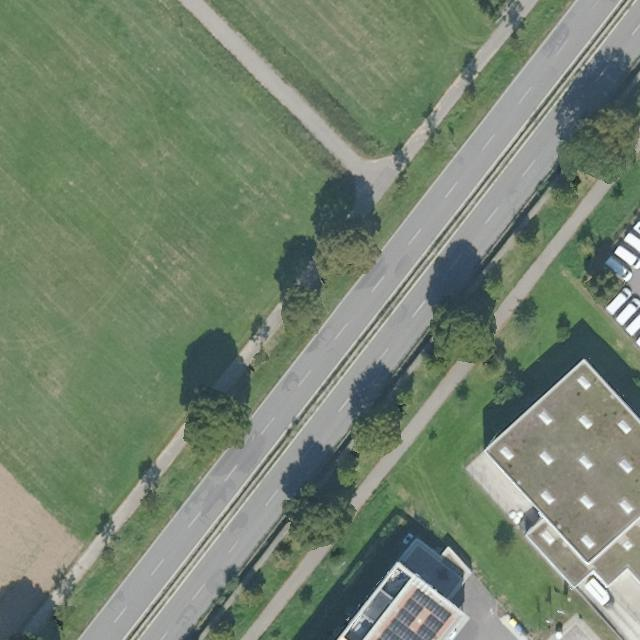PV: (377, 584, 454, 638)
